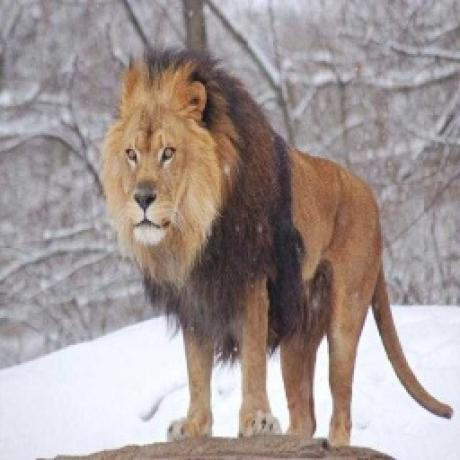Lion: (104, 43, 453, 446)
